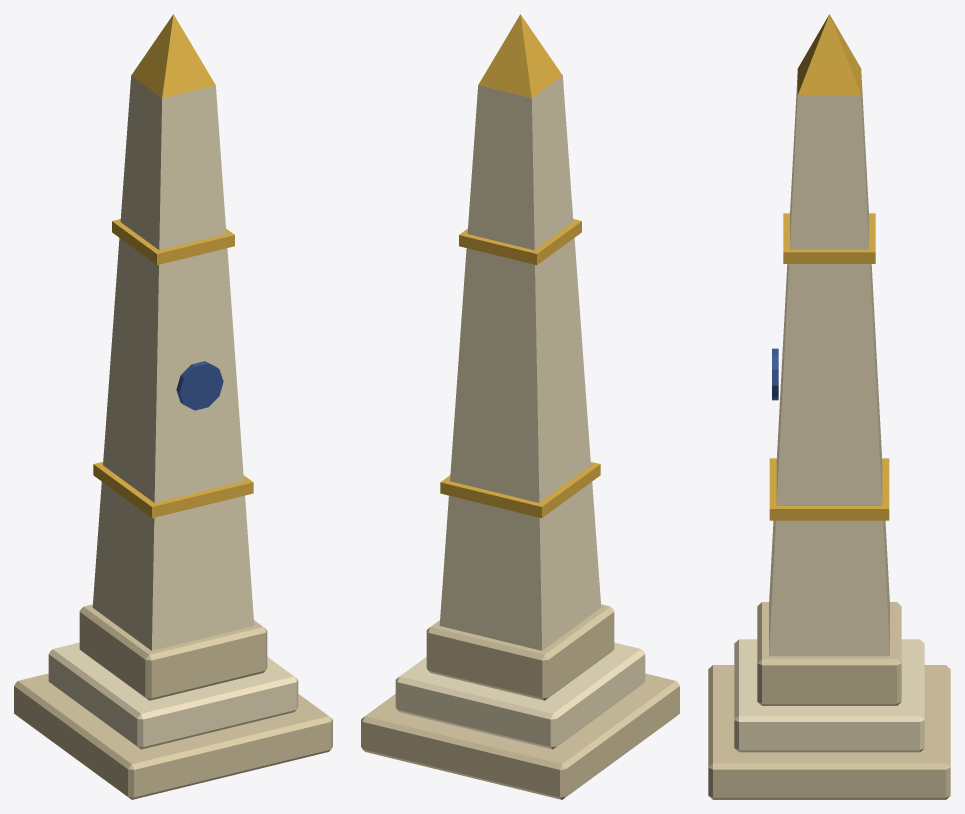
Rendered from monument-obelisk.glb.
3 renders of one model, left to right at view 1: azimuth 30°, elevation 25°; view 2: azimuth 150°, elevation 25°; view 3: azimuth 270°, elevation 25°, orthographic. The views are drawn at different scales.
Visible parts, largest first — view 1: Cube; view 2: Cube; view 3: Cube.
Part boxes in pixels (x1,y1,x2,y2): Cube: [14, 14, 332, 799]; Cube: [361, 14, 679, 799]; Cube: [708, 14, 950, 799].
Bounding box in the file's own units: 0.42 × 1.41 × 0.42.
